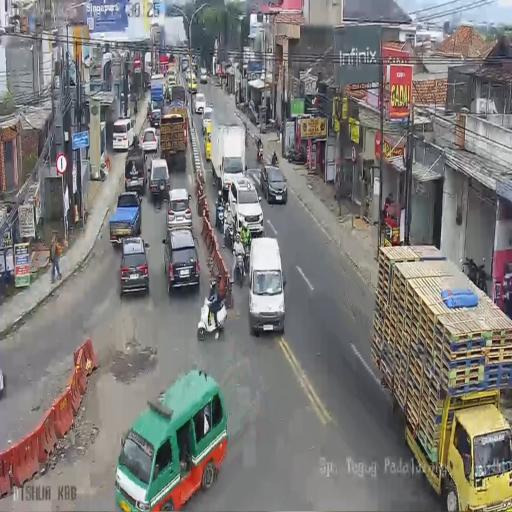3: (369, 245, 510, 508), (210, 121, 246, 196), (159, 110, 188, 170), (150, 72, 165, 95), (186, 70, 197, 92), (166, 72, 177, 94), (144, 52, 152, 76), (192, 58, 198, 72), (182, 59, 188, 72)
car: (114, 368, 228, 510), (249, 238, 286, 334), (163, 228, 201, 293), (228, 177, 262, 242), (110, 190, 143, 246), (119, 238, 150, 297), (166, 187, 194, 231), (260, 165, 288, 205), (124, 150, 147, 192), (112, 116, 137, 152), (149, 158, 170, 200), (140, 127, 159, 156), (202, 106, 213, 134), (149, 104, 161, 128), (194, 92, 206, 115), (200, 68, 208, 84)
truck: (196, 292, 226, 340), (234, 248, 246, 287), (286, 143, 305, 164)
